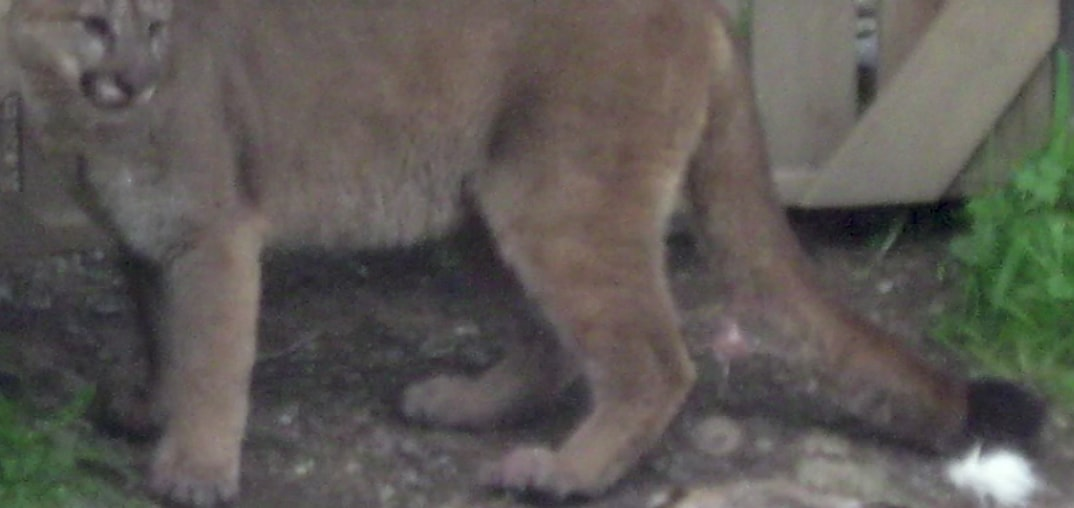Mountain Lion: (20, 12, 1053, 500)
